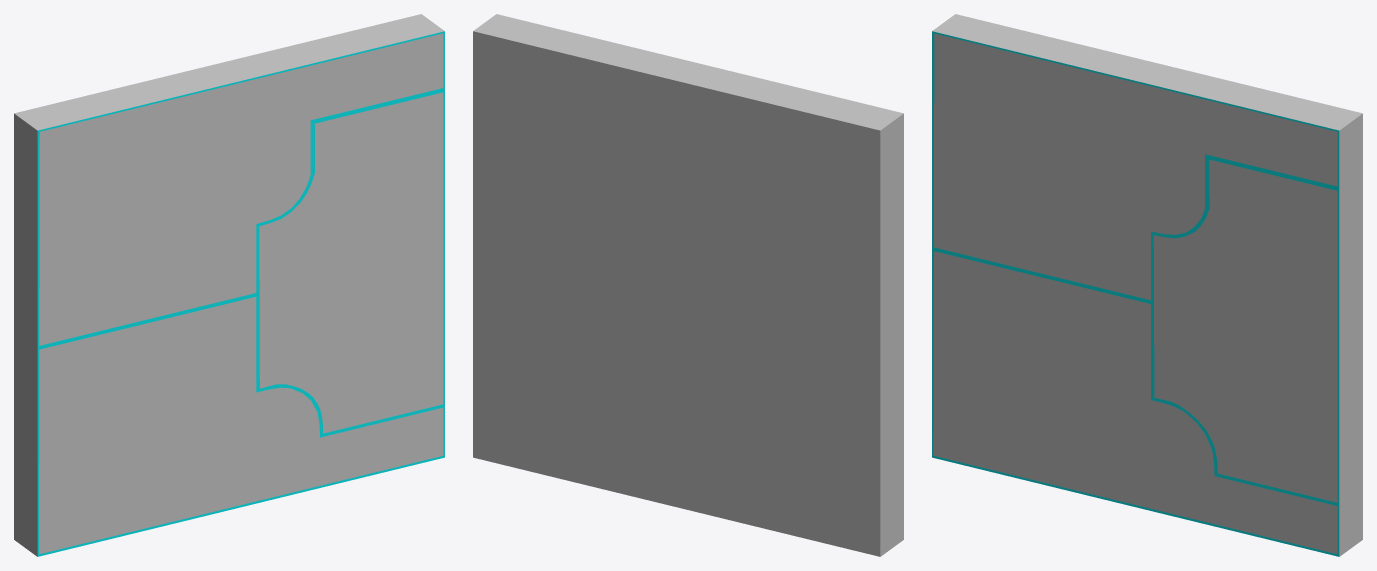
File: Wall_011.fbx
3 renders of one model, left to right at view 1: azimuth 30°, elevation 25°; view 2: azimuth 150°, elevation 25°; view 3: azimuth 330°, elevation 25°, orthographic.
Parts seen in each view (by area): view 1: Wall_011; view 2: Wall_011; view 3: Wall_011.
Boxes of the visible parts, x1,y1,x2,y2 form: Wall_011: [14, 14, 444, 556]; Wall_011: [473, 14, 903, 556]; Wall_011: [932, 14, 1362, 556].
Size of the model in its own units: 300 by 300 by 30.
